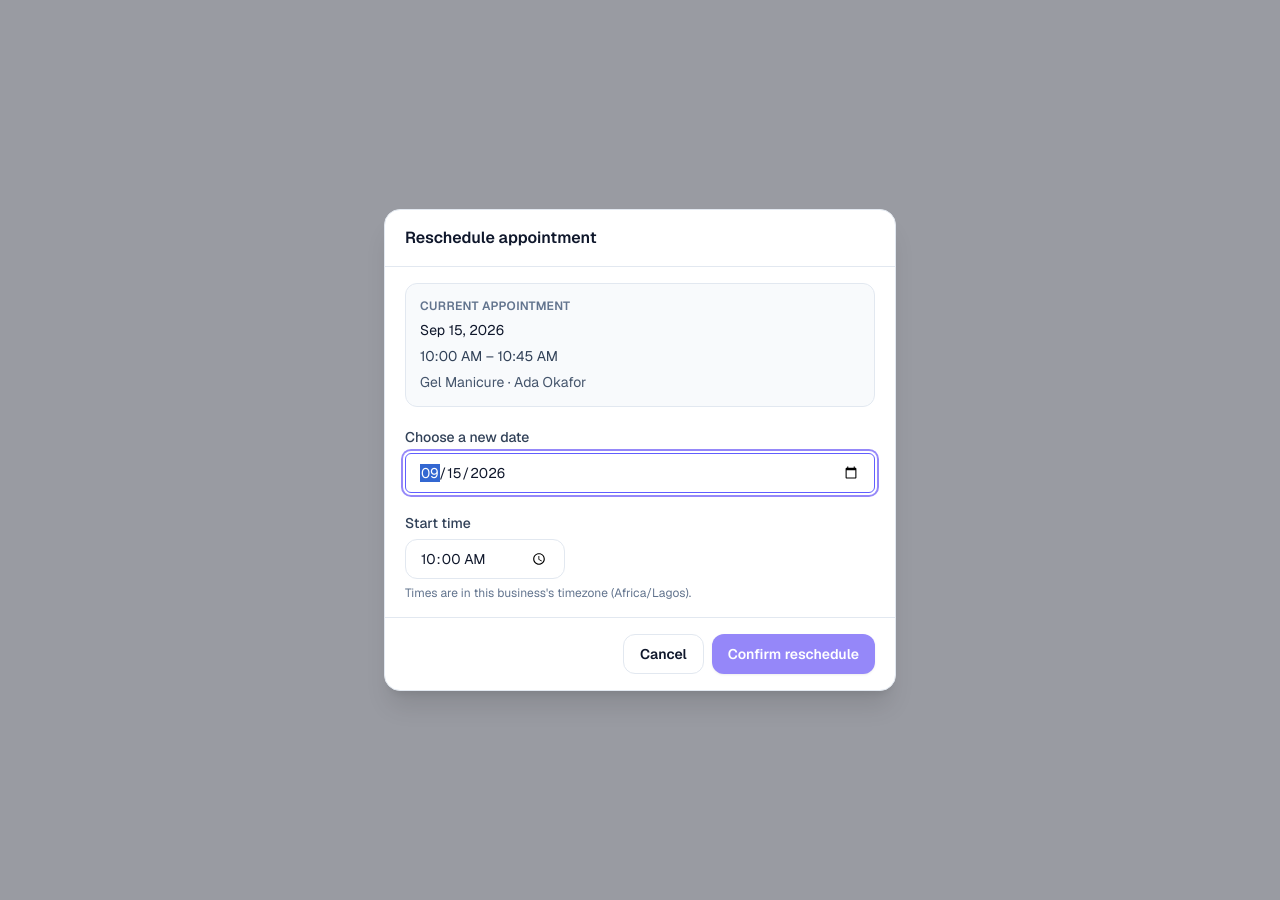
Test case: RescheduleBookingDialog — other errors › maps VALIDATION_FAILED to friendly copy without discarding the form
In the date field labelled "Choose a new date": (640, 473) [405,453,875,493], type "2026-09-27"
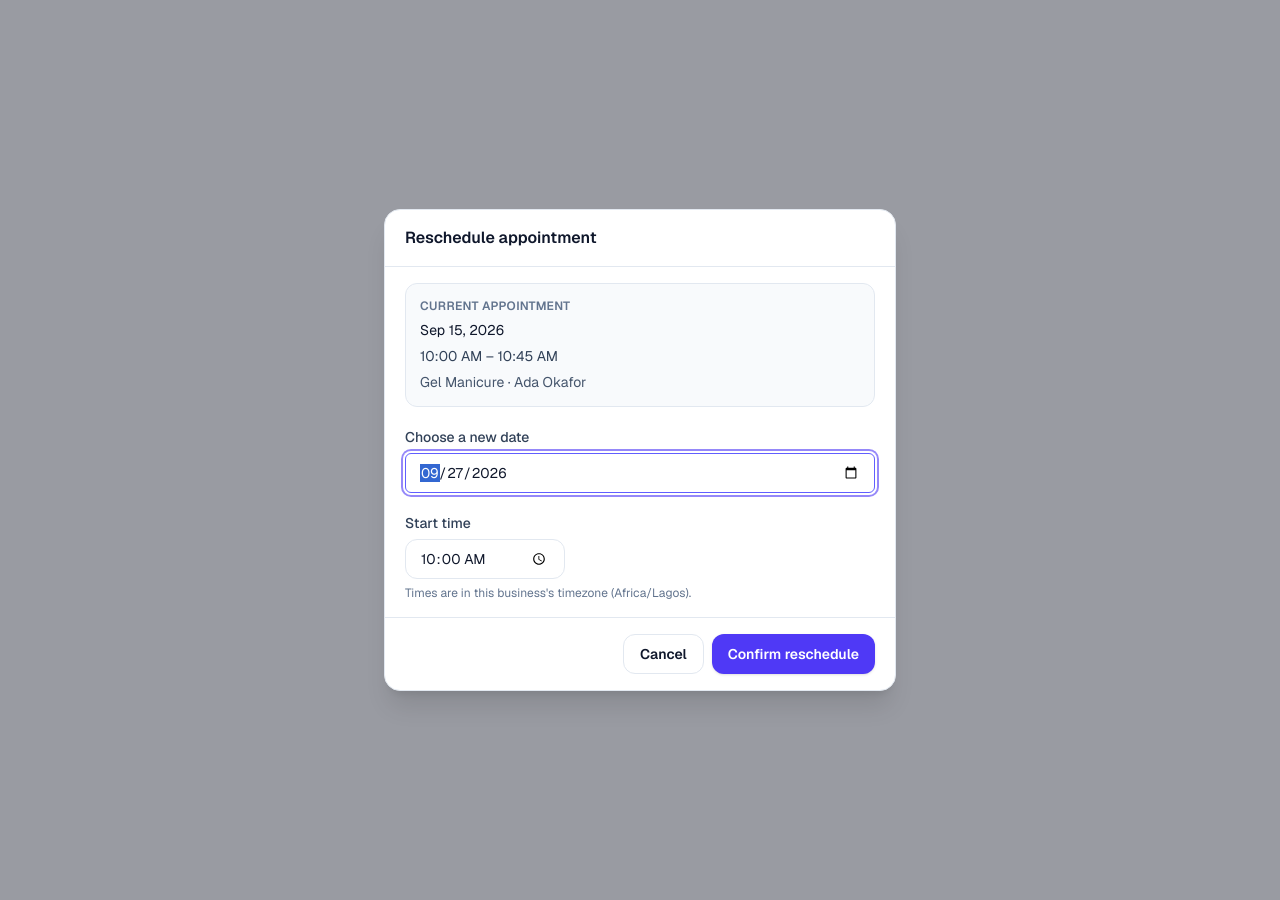
Click the button "Confirm reschedule": click(793, 654) [712,634,875,674]
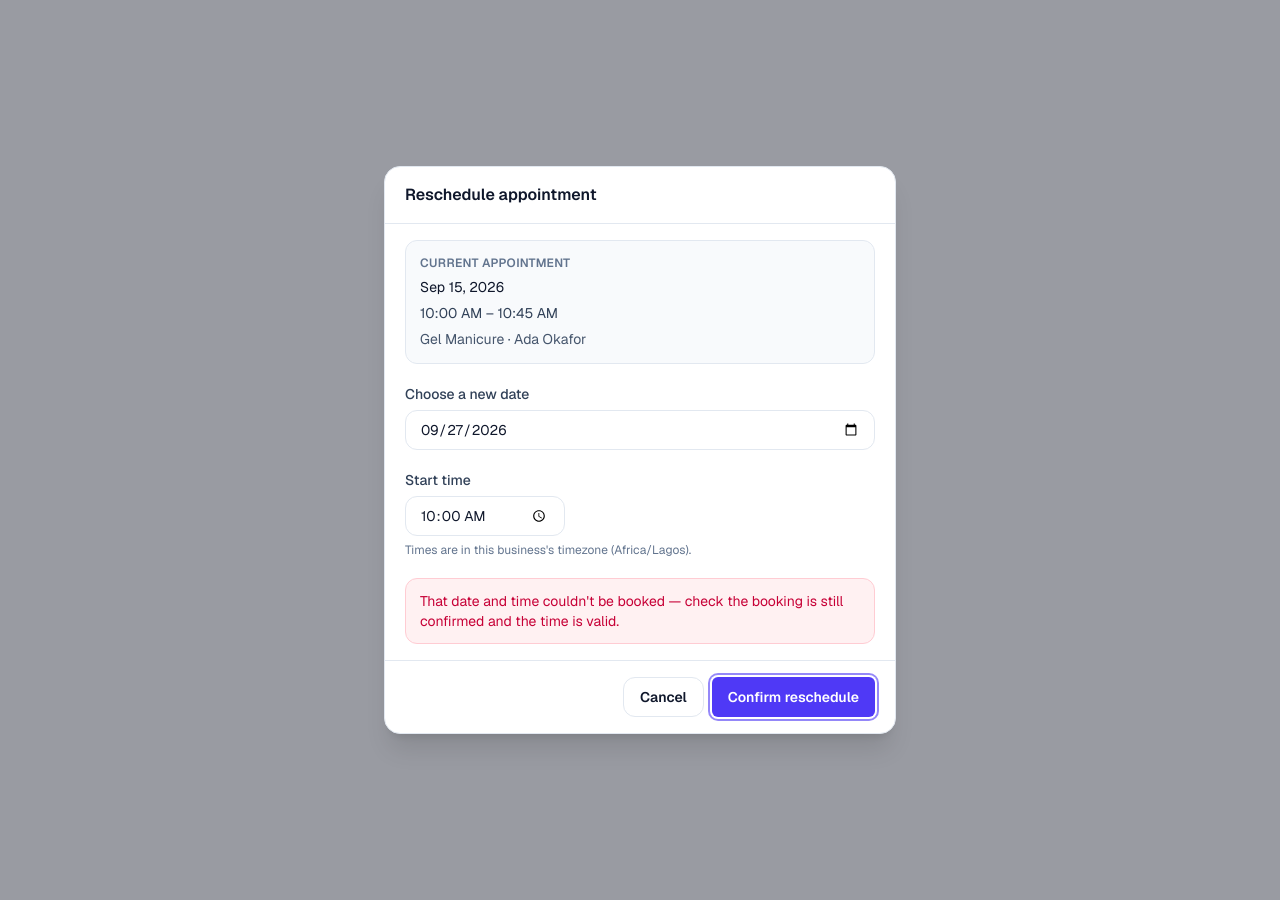
Check: the message is shown, box [405,578,875,644]
